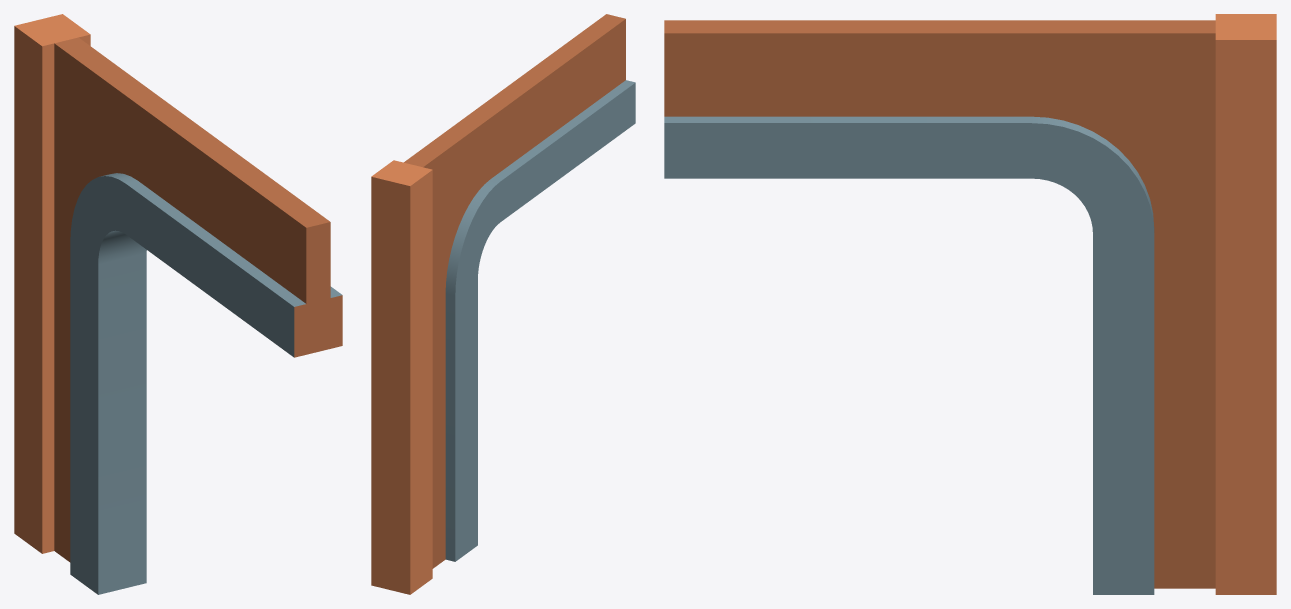
Rendered from wallWoodDoorwaySquareWideCurved.fbx.
The picture shows the model from 3 angles, left to right: view 1: azimuth 30°, elevation 25°; view 2: azimuth 150°, elevation 25°; view 3: azimuth 270°, elevation 25°; orthographic projection. The views are drawn at different scales.
Parts seen in each view (by area): view 1: wallWoodDoorwaySquareWideCurved; view 2: wallWoodDoorwaySquareWideCurved; view 3: wallWoodDoorwaySquareWideCurved.
Part boxes in pixels (x1,y1,x2,y2): wallWoodDoorwaySquareWideCurved: (14, 14, 342, 594); wallWoodDoorwaySquareWideCurved: (371, 14, 635, 594); wallWoodDoorwaySquareWideCurved: (664, 14, 1276, 594).
Size of the model in its own units: 1 by 10 by 10.
